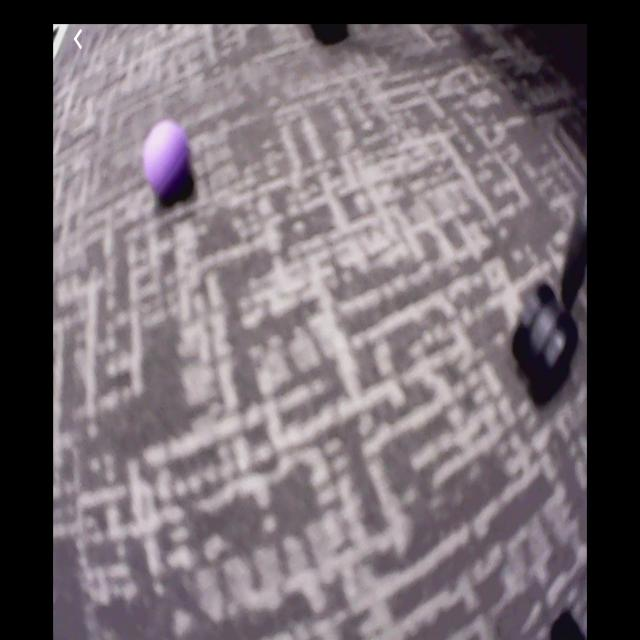ball: (147, 122, 192, 202)
